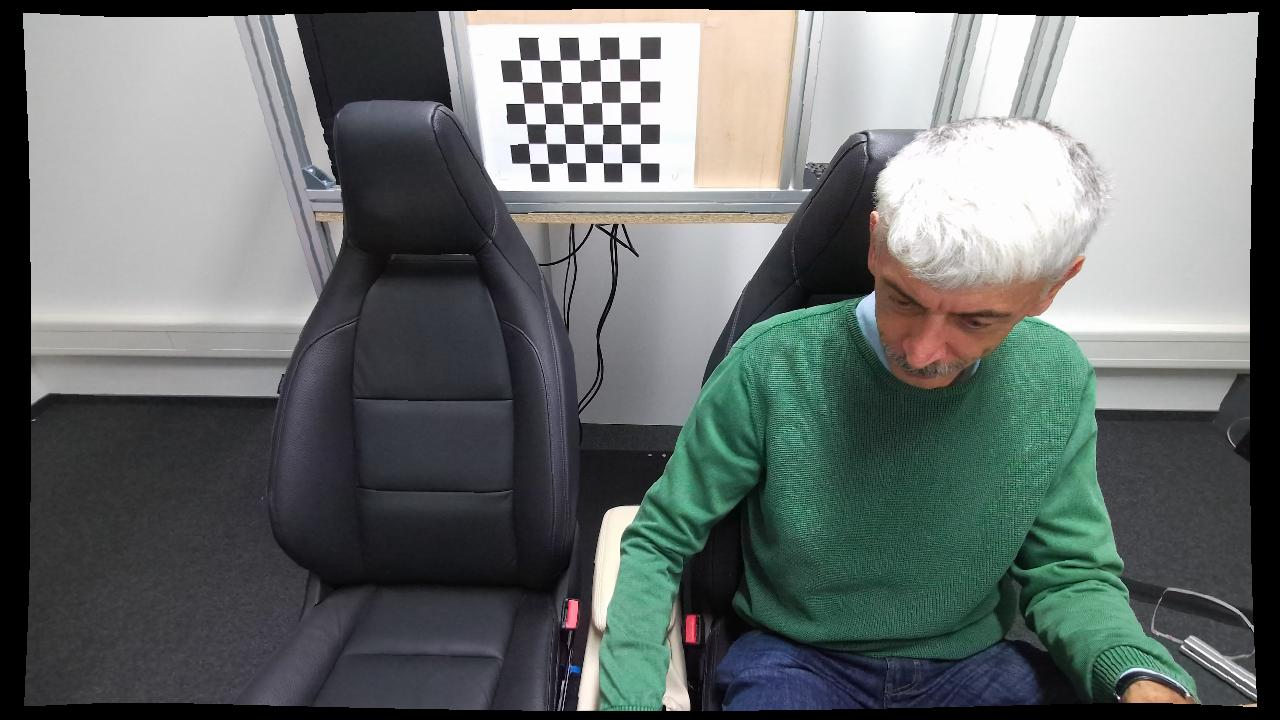Distracted: (593, 106, 1193, 712)
